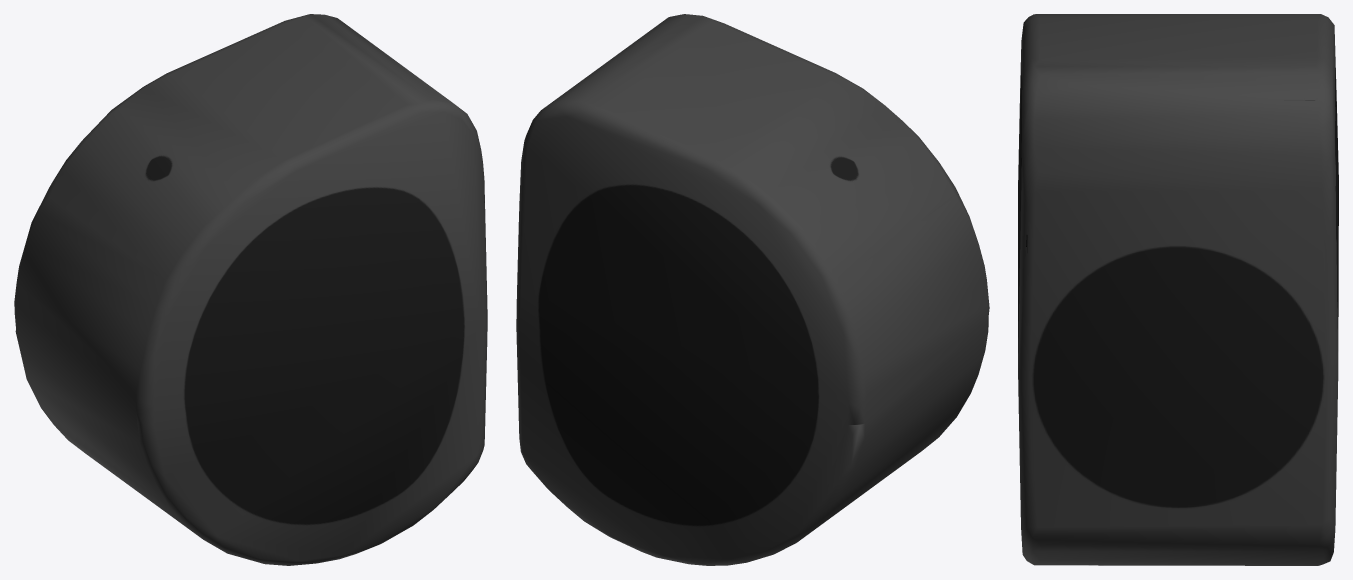
The model's file is r_wrist_flex_link.OBJ.
3 renders of one model, left to right at view 1: azimuth 30°, elevation 25°; view 2: azimuth 150°, elevation 25°; view 3: azimuth 270°, elevation 25°, orthographic. The views are drawn at different scales.
Visible parts, largest first — view 1: /ambf/env/pr2/r_wrist_flex_link_/ambf/env/pr2/r_wrist_flex_link_; view 2: /ambf/env/pr2/r_wrist_flex_link_/ambf/env/pr2/r_wrist_flex_link_; view 3: /ambf/env/pr2/r_wrist_flex_link_/ambf/env/pr2/r_wrist_flex_link_.
Boxes of the visible parts, x1=… form: /ambf/env/pr2/r_wrist_flex_link_/ambf/env/pr2/r_wrist_flex_link_: x1=14, y1=14, x2=487, y2=565; /ambf/env/pr2/r_wrist_flex_link_/ambf/env/pr2/r_wrist_flex_link_: x1=516, y1=14, x2=989, y2=565; /ambf/env/pr2/r_wrist_flex_link_/ambf/env/pr2/r_wrist_flex_link_: x1=1018, y1=14, x2=1338, y2=565.
Bounding box in the file's own units: 0.0656 × 0.0782 × 0.0434.
